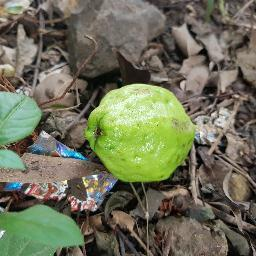Good_guava: (90, 80, 195, 185)
